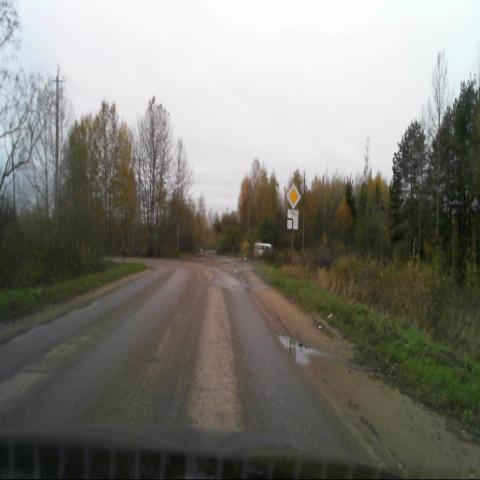2_1: (286, 183, 300, 209)
8_13: (287, 209, 298, 229)
